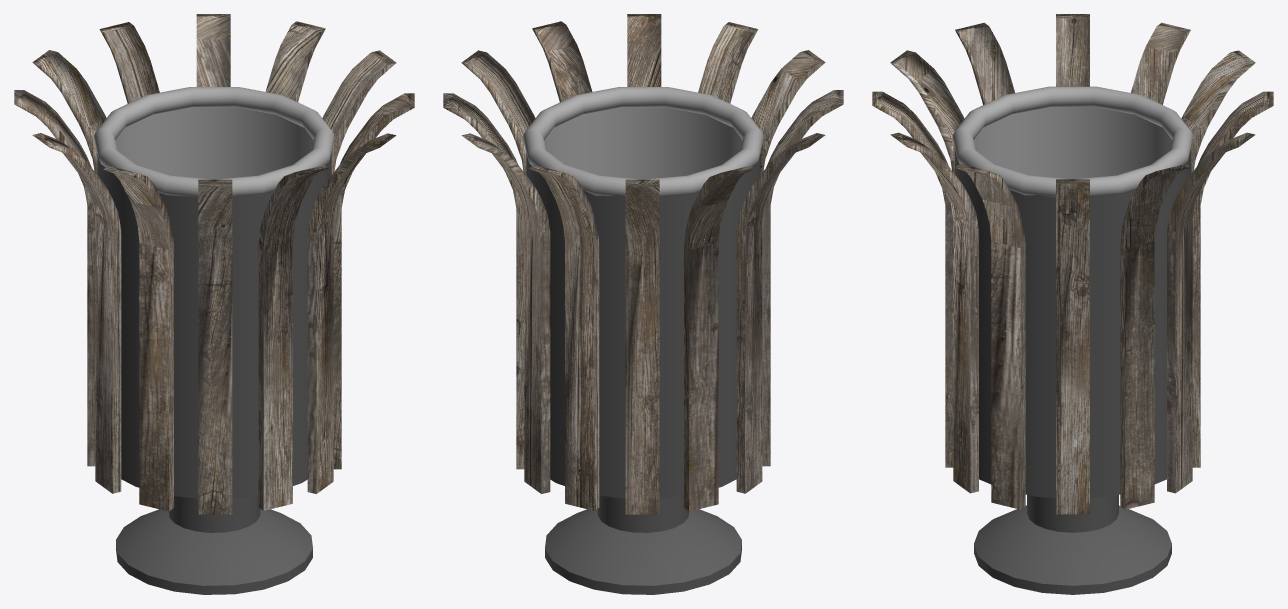
File: trashcan.fbx
3 views of the same model, side by side, from view 1: azimuth 30°, elevation 25°; view 2: azimuth 150°, elevation 25°; view 3: azimuth 270°, elevation 25° (orthographic).
Visible parts, largest first — view 1: polySurface1, polySurface7; view 2: polySurface1, polySurface7; view 3: polySurface1, polySurface7.
Part boxes in pixels (x1,y1,x2,y2): polySurface1: (14, 14, 414, 514); polySurface7: (94, 87, 334, 594); polySurface1: (443, 14, 843, 514); polySurface7: (523, 87, 763, 594); polySurface1: (872, 14, 1273, 514); polySurface7: (952, 86, 1193, 594).
Size of the model in its own units: 42.37 by 52.97 by 42.37.
